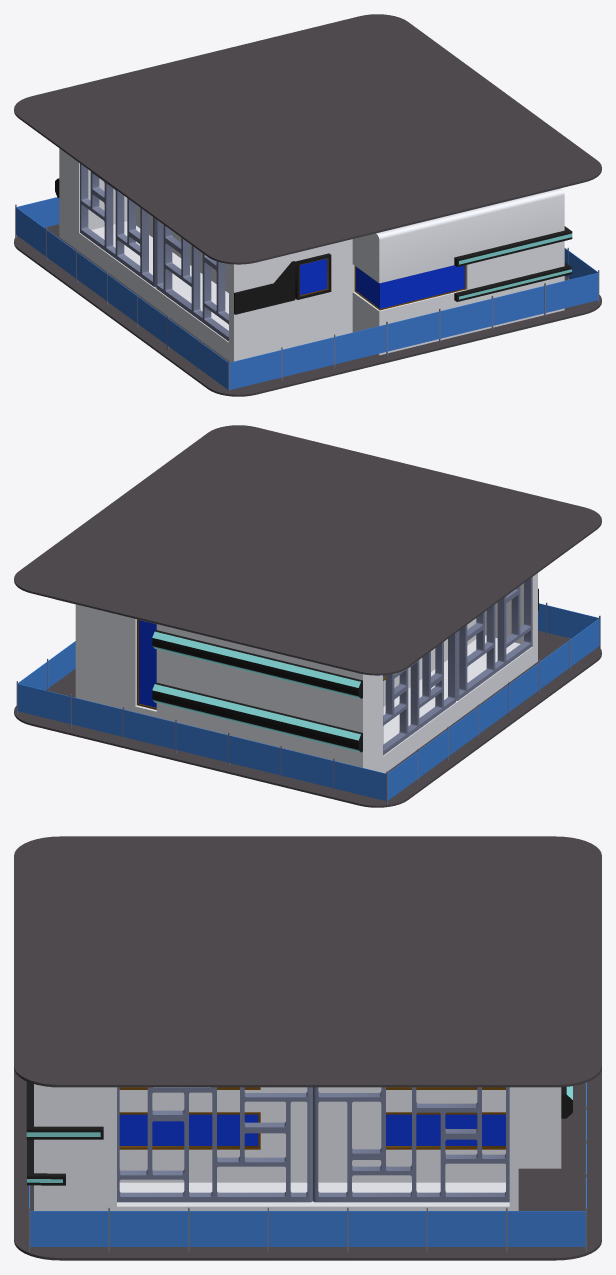
Rendered from SM_B_Mauro1_mid.fbx.
3 renders of one model, top to bottom at view 1: azimuth 30°, elevation 25°; view 2: azimuth 150°, elevation 25°; view 3: azimuth 270°, elevation 25°, orthographic. The views are drawn at different scales.
Parts seen in each view (by area): view 1: Maur_mid; view 2: Maur_mid; view 3: Maur_mid.
Boxes of the visible parts, left/top/right/bottom form: Maur_mid: left=14, top=14, right=601, bottom=396; Maur_mid: left=14, top=425, right=601, bottom=807; Maur_mid: left=14, top=836, right=601, bottom=1260.
Bounding box in the file's own units: 2100 × 692 × 2100.
